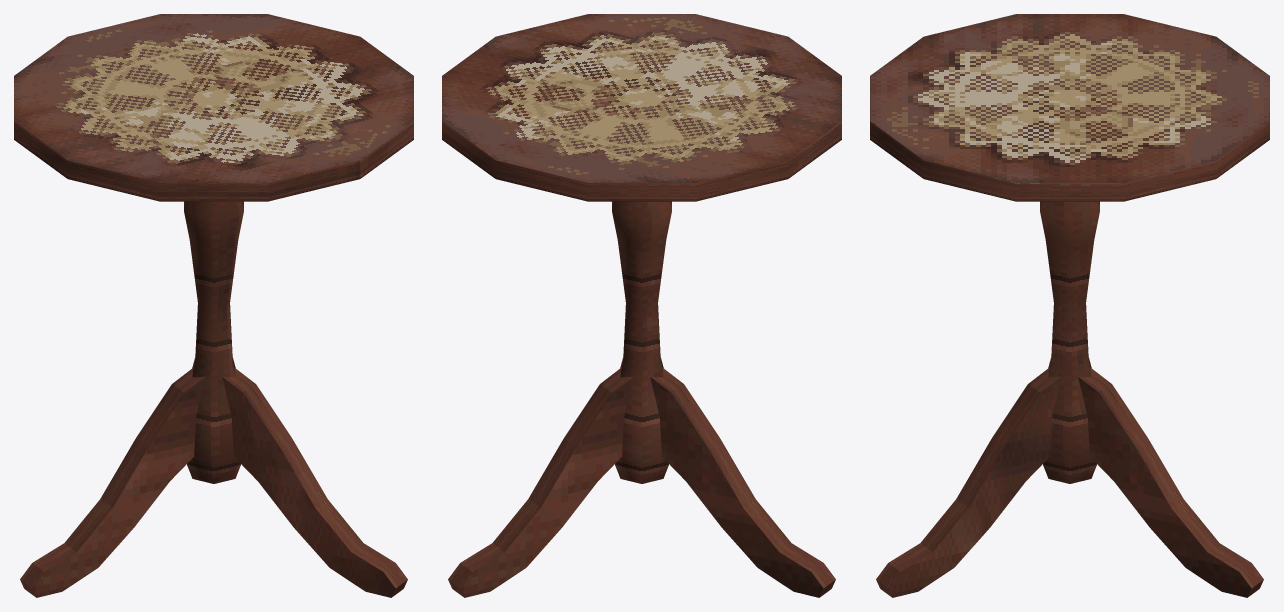
File: table_side_round.glb
3 views of the same model, side by side, from view 1: azimuth 30°, elevation 25°; view 2: azimuth 150°, elevation 25°; view 3: azimuth 270°, elevation 25° (orthographic).
Parts seen in each view (by area): view 1: table_side_round; view 2: table_side_round; view 3: table_side_round.
Part boxes in pixels (left/top/right/bottom): table_side_round: left=14, top=14, right=413, bottom=597; table_side_round: left=442, top=14, right=841, bottom=597; table_side_round: left=870, top=14, right=1269, bottom=597.
Bounding box in the file's own units: 0.5035 × 0.6 × 0.483.
Materials: 1 (1 with a texture image).
